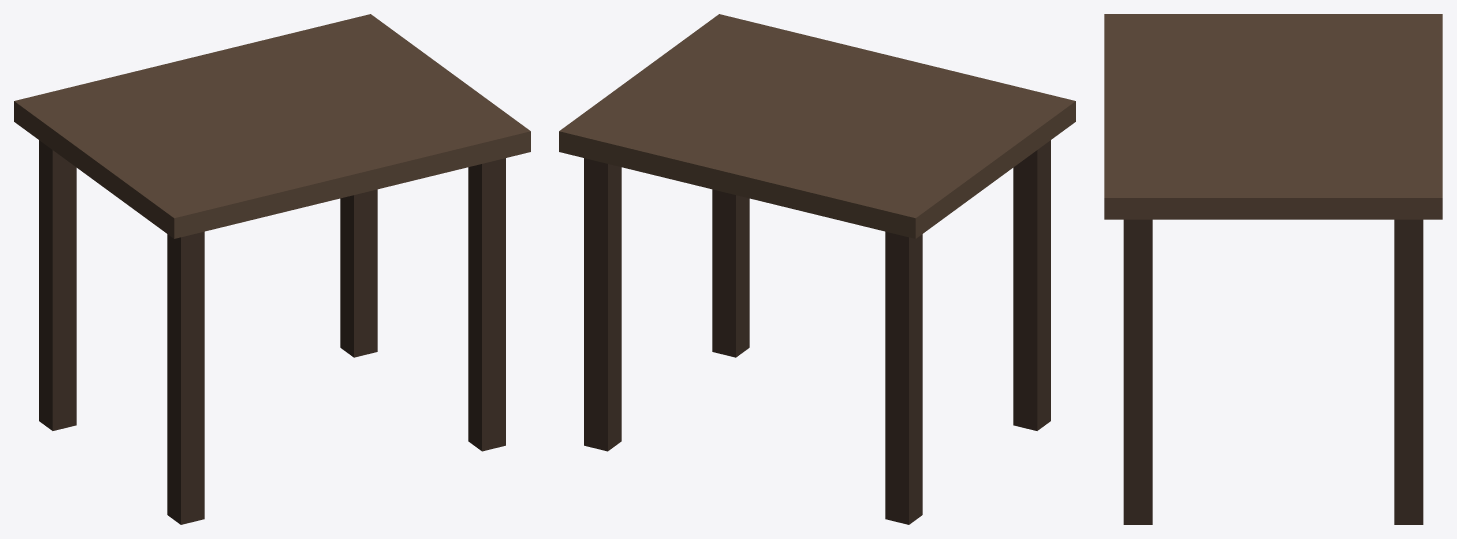
Rendered from interior_table.glb.
3 renders of one model, left to right at view 1: azimuth 30°, elevation 25°; view 2: azimuth 150°, elevation 25°; view 3: azimuth 270°, elevation 25°, orthographic. The views are drawn at different scales.
Parts seen in each view (by area): view 1: interior_table; view 2: interior_table; view 3: interior_table.
Boxes of the visible parts, left/top/right/bottom form: interior_table: left=14, top=14, right=530, bottom=524; interior_table: left=559, top=14, right=1075, bottom=524; interior_table: left=1104, top=14, right=1442, bottom=524.
Bounding box in the file's own units: 0.9 × 0.765 × 0.7.
